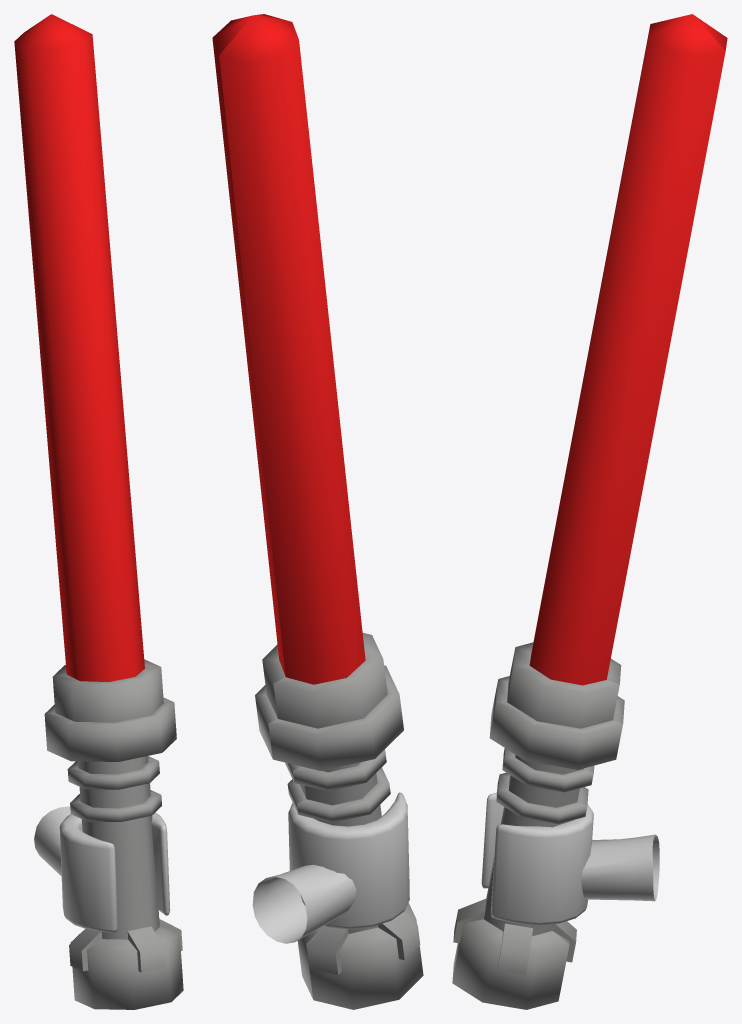
File: SantaRightHand.obj
The picture shows the model from 3 angles, left to right: view 1: azimuth 30°, elevation 25°; view 2: azimuth 150°, elevation 25°; view 3: azimuth 270°, elevation 25°; orthographic projection. The views are drawn at different scales.
Visible parts, largest first — view 1: Mesh_0342.001_Mesh_0342Mesh.001, Mesh_0384.001_Mesh_0384Mesh.001, Mesh_0140.001_Mesh_0140Mesh.003; view 2: Mesh_0342.001_Mesh_0342Mesh.001, Mesh_0384.001_Mesh_0384Mesh.001, Mesh_0140.001_Mesh_0140Mesh.003; view 3: Mesh_0342.001_Mesh_0342Mesh.001, Mesh_0384.001_Mesh_0384Mesh.001, Mesh_0140.001_Mesh_0140Mesh.003.
Part boxes in pixels (x1=…): Mesh_0342.001_Mesh_0342Mesh.001: x1=14, y1=14, x2=144, y2=681; Mesh_0384.001_Mesh_0384Mesh.001: x1=44, y1=659, x2=183, y2=1009; Mesh_0140.001_Mesh_0140Mesh.003: x1=34, y1=806, x2=170, y2=932; Mesh_0342.001_Mesh_0342Mesh.001: x1=212, y1=14, x2=365, y2=684; Mesh_0384.001_Mesh_0384Mesh.001: x1=255, y1=633, x2=423, y2=1009; Mesh_0140.001_Mesh_0140Mesh.003: x1=252, y1=792, x2=409, y2=943; Mesh_0342.001_Mesh_0342Mesh.001: x1=529, y1=14, x2=727, y2=685; Mesh_0384.001_Mesh_0384Mesh.001: x1=452, y1=642, x2=624, y2=1009; Mesh_0140.001_Mesh_0140Mesh.003: x1=481, y1=792, x2=659, y2=925.
Size of the model in its own units: 0.0521 by 0.4282 by 0.1087.
